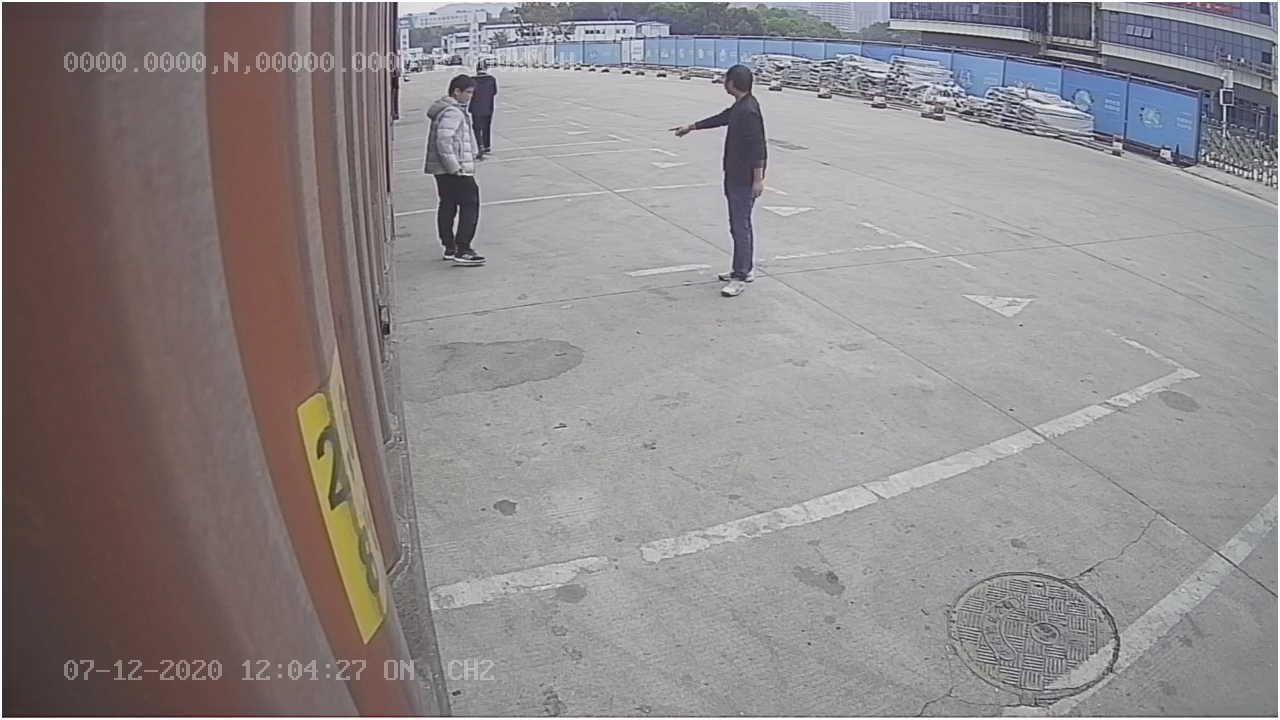person: (666, 60, 771, 300)
